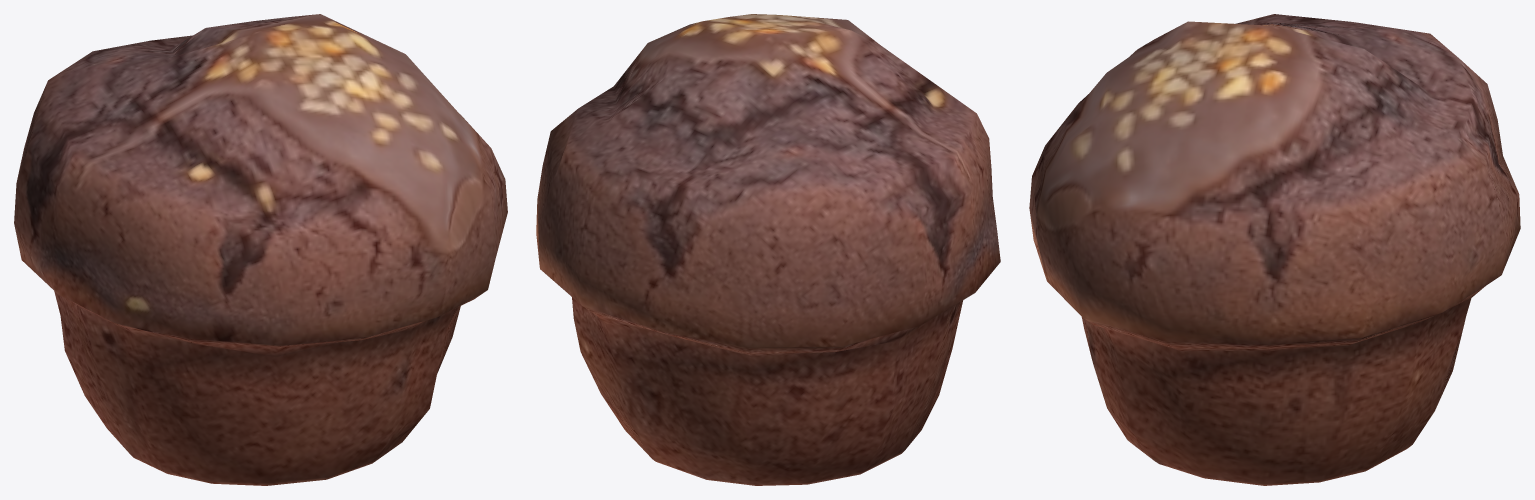
Rendered from chocolate-muffin--game-ready---2k-pbr-99da82.glb.
3 views of the same model, side by side, from view 1: azimuth 30°, elevation 25°; view 2: azimuth 150°, elevation 25°; view 3: azimuth 270°, elevation 25° (orthographic). The views are drawn at different scales.
Parts seen in each view (by area): view 1: PropMesh; view 2: PropMesh; view 3: PropMesh.
Part boxes in pixels (<box>): PropMesh: <box>14,14,507,485</box>; PropMesh: <box>536,14,1000,485</box>; PropMesh: <box>1029,14,1520,485</box>.
Bounding box in the file's own units: 0.1636 × 0.15 × 0.1671.
Materials: 1 (1 with a texture image).
